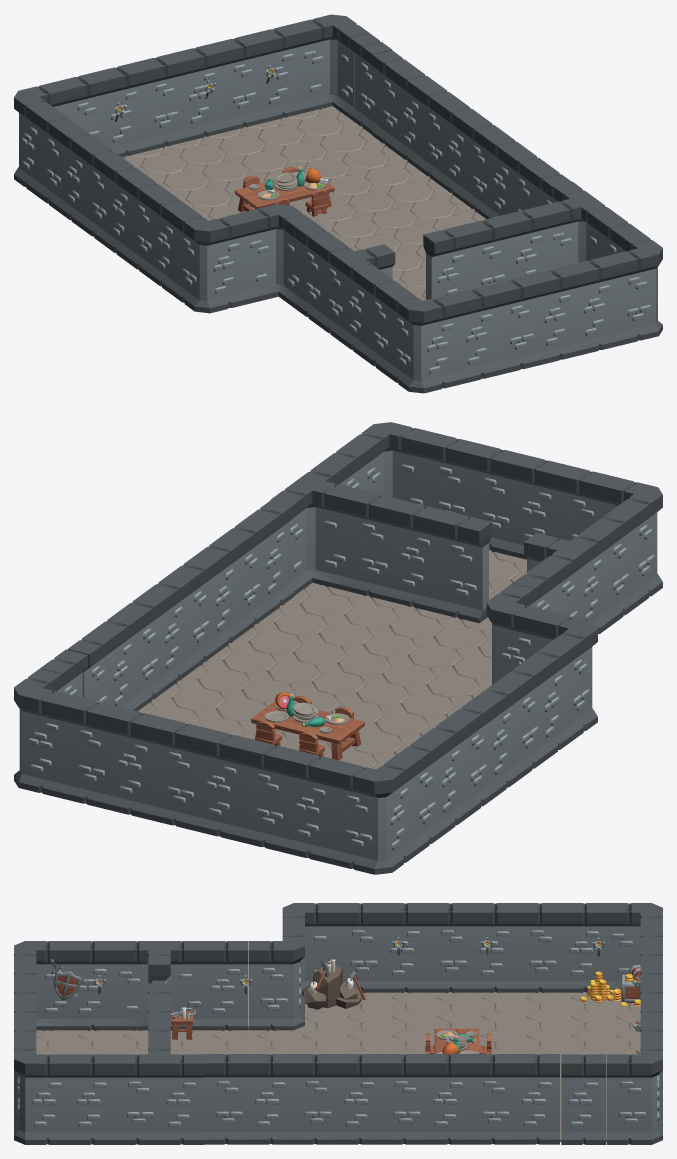
Rendered from map1.glb.
The picture shows the model from 3 angles, top to bottom: view 1: azimuth 30°, elevation 25°; view 2: azimuth 150°, elevation 25°; view 3: azimuth 270°, elevation 25°; orthographic projection. The views are drawn at different scales.
Parts seen in each view (by area): view 1: wall, wall.008, wall.009, wall_corner, wall_corner.003, wall.011, wall_Tsplit, wall.001, wall_corner.002, wall_corner.004, wall.010, wall.007 (+27 smaller); view 2: wall.008, wall.011, wall.009, wall.001, wall_corner.005, wall, wall_Tsplit.001, wall.007, wall.010, wall.006, wall.004, wall.003 (+28 smaller); view 3: wall_Tsplit.001, wall.004, wall.005, wall.003, wall.002, wall.007, wall.010, wall.006, wall_Tsplit, wall_corner.004, wall_corner.001, wall_corner.002 (+32 smaller).
Part boxes in pixels (<box>): wall: <box>491,265,580,374</box>; wall.008: <box>214,24,303,132</box>; wall.009: <box>136,43,224,151</box>; wall_corner: <box>386,288,463,393</box>; wall_corner.003: <box>172,208,249,313</box>; wall.011: <box>58,62,146,157</box>; wall_Tsplit: <box>318,239,395,358</box>; wall.001: <box>463,206,551,289</box>; wall_corner.002: <box>238,204,314,308</box>; wall_corner.004: <box>292,14,368,118</box>; wall.010: <box>36,109,100,228</box>; wall.007: <box>81,142,145,261</box>; wall.008: <box>63,696,164,820</box>; wall.011: <box>241,740,342,863</box>; wall.009: <box>152,718,253,841</box>; wall.001: <box>346,489,447,612</box>; wall_corner.005: <box>330,755,417,874</box>; wall: <box>467,444,568,559</box>; wall_Tsplit.001: <box>271,462,358,595</box>; wall.007: <box>447,680,520,815</box>; wall.010: <box>396,718,469,853</box>; wall.006: <box>499,642,571,778</box>; wall.004: <box>221,499,294,633</box>; wall.003: <box>119,574,192,708</box>; wall_Tsplit.001: <box>114,1040,204,1144</box>; wall.004: <box>203,1054,293,1144</box>; wall.005: <box>470,1054,559,1144</box>; wall.003: <box>381,1054,470,1144</box>; wall.002: <box>292,1054,381,1144</box>; wall.007: <box>428,903,517,992</box>; wall.010: <box>517,903,606,992</box>; wall.006: <box>338,903,427,992</box>; wall_Tsplit: <box>114,941,204,1030</box>; wall_corner.004: <box>607,1040,662,1144</box>; wall_corner.001: <box>14,1040,69,1144</box>; wall_corner.002: <box>249,926,304,1030</box>.
Bounding box in the file's own units: 17 × 4.1 × 29.
73 materials, 73 textured.
